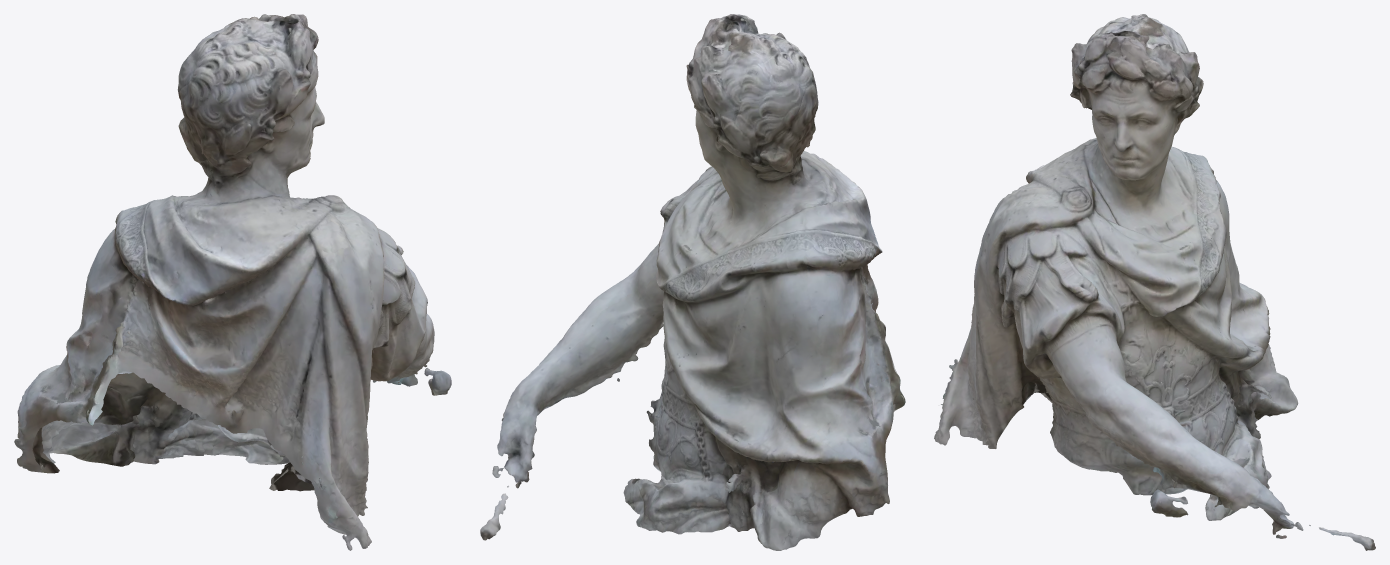
Rendered from cesar-cel.glb.
3 views of the same model, side by side, from view 1: azimuth 30°, elevation 25°; view 2: azimuth 150°, elevation 25°; view 3: azimuth 270°, elevation 25° (orthographic). The views are drawn at different scales.
Visible parts, largest first — view 1: Object_3; view 2: Object_3; view 3: Object_3.
Boxes of the visible parts, left/top/right/bottom form: Object_3: left=14, top=14, right=451, bottom=550; Object_3: left=480, top=14, right=905, bottom=550; Object_3: left=934, top=14, right=1375, bottom=550.
Bounding box in the file's own units: 0.8101 × 0.9577 × 0.8273.
1 material, 1 textured.
